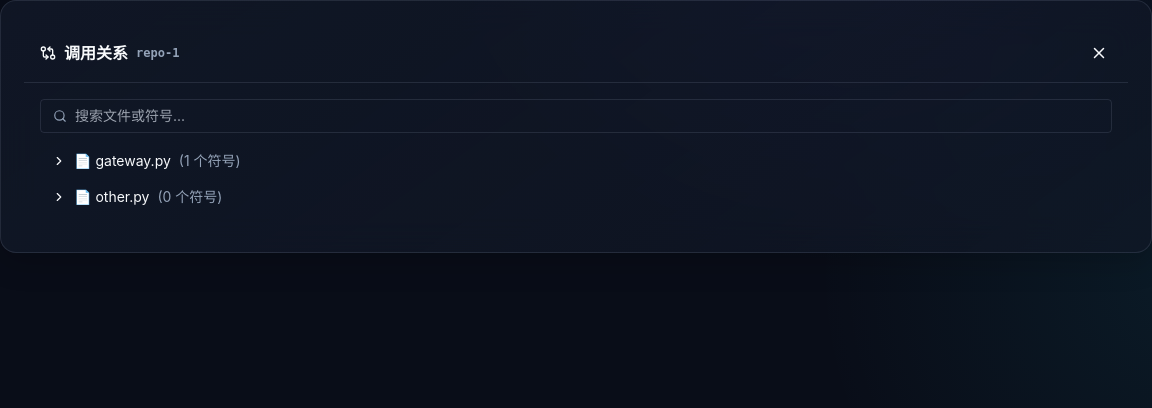
it: CodeRelationPanel call graph explorer › debounces symbol search and shows an honest empty result
Expected: the text "📄 gateway.py" is shown, [74,151,171,171]
Type "missing" into the field with placeholder "搜索文件或符号..." at [587, 116], box [75,106,1099,126]
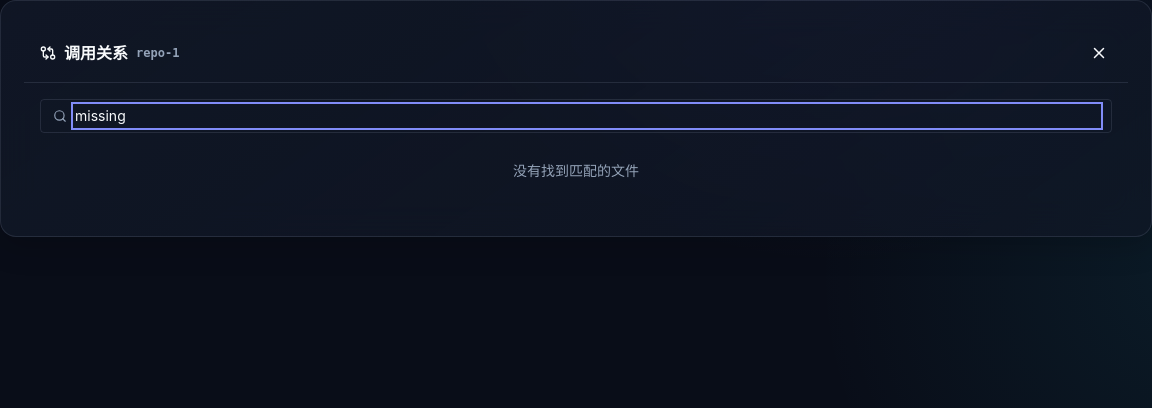
Now the text "没有找到匹配的文件" is shown, box [513,162,639,179]
